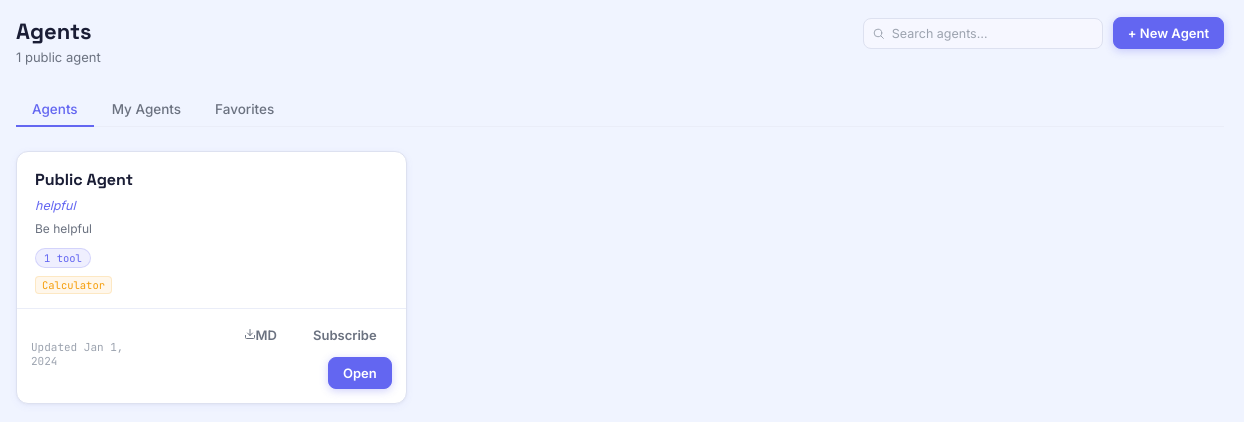
Scenario: Subscribe / Unsubscribe › Authenticated subscribe flow › shows Unsubscribe optimistically after Subscribe click
The width and height of the screenshot is (1244, 422).
What coordinates should you click on to do the following:
click the button "Subscribe"
I would click on:
 (345, 335)
Its box is [298,319,392,351].
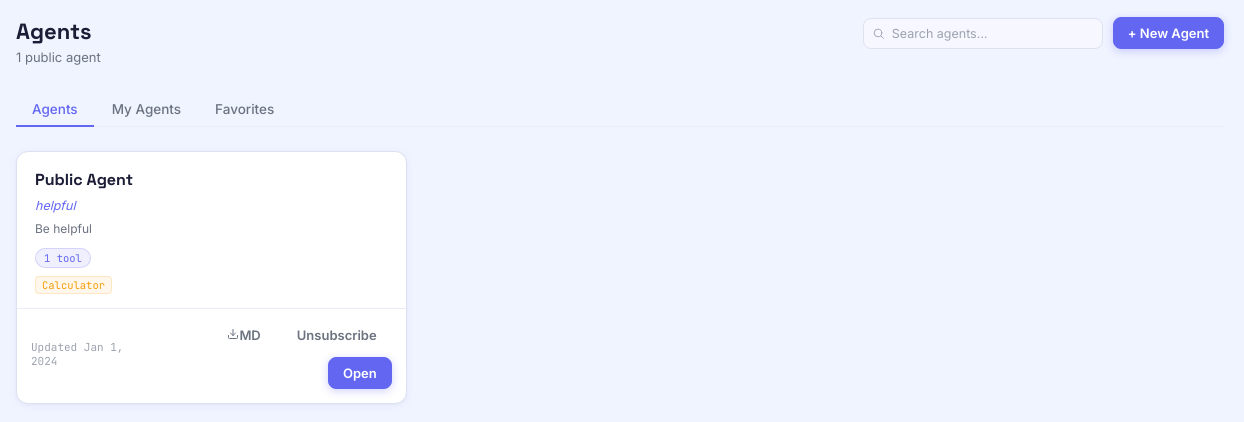
Check: the button "Unsubscribe" is shown, box [282,319,392,351]
